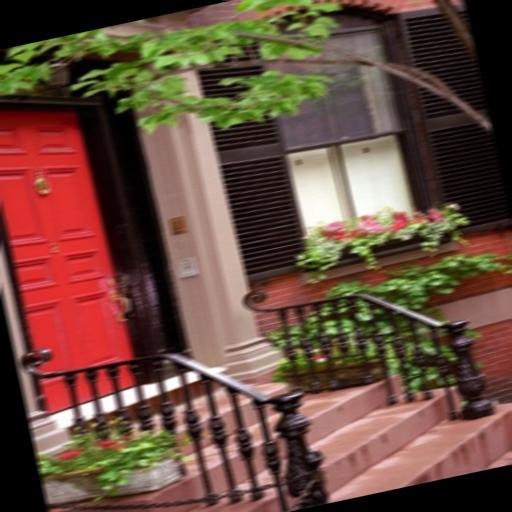Door: (0, 84, 152, 414)
Stairs: (11, 239, 512, 512)
